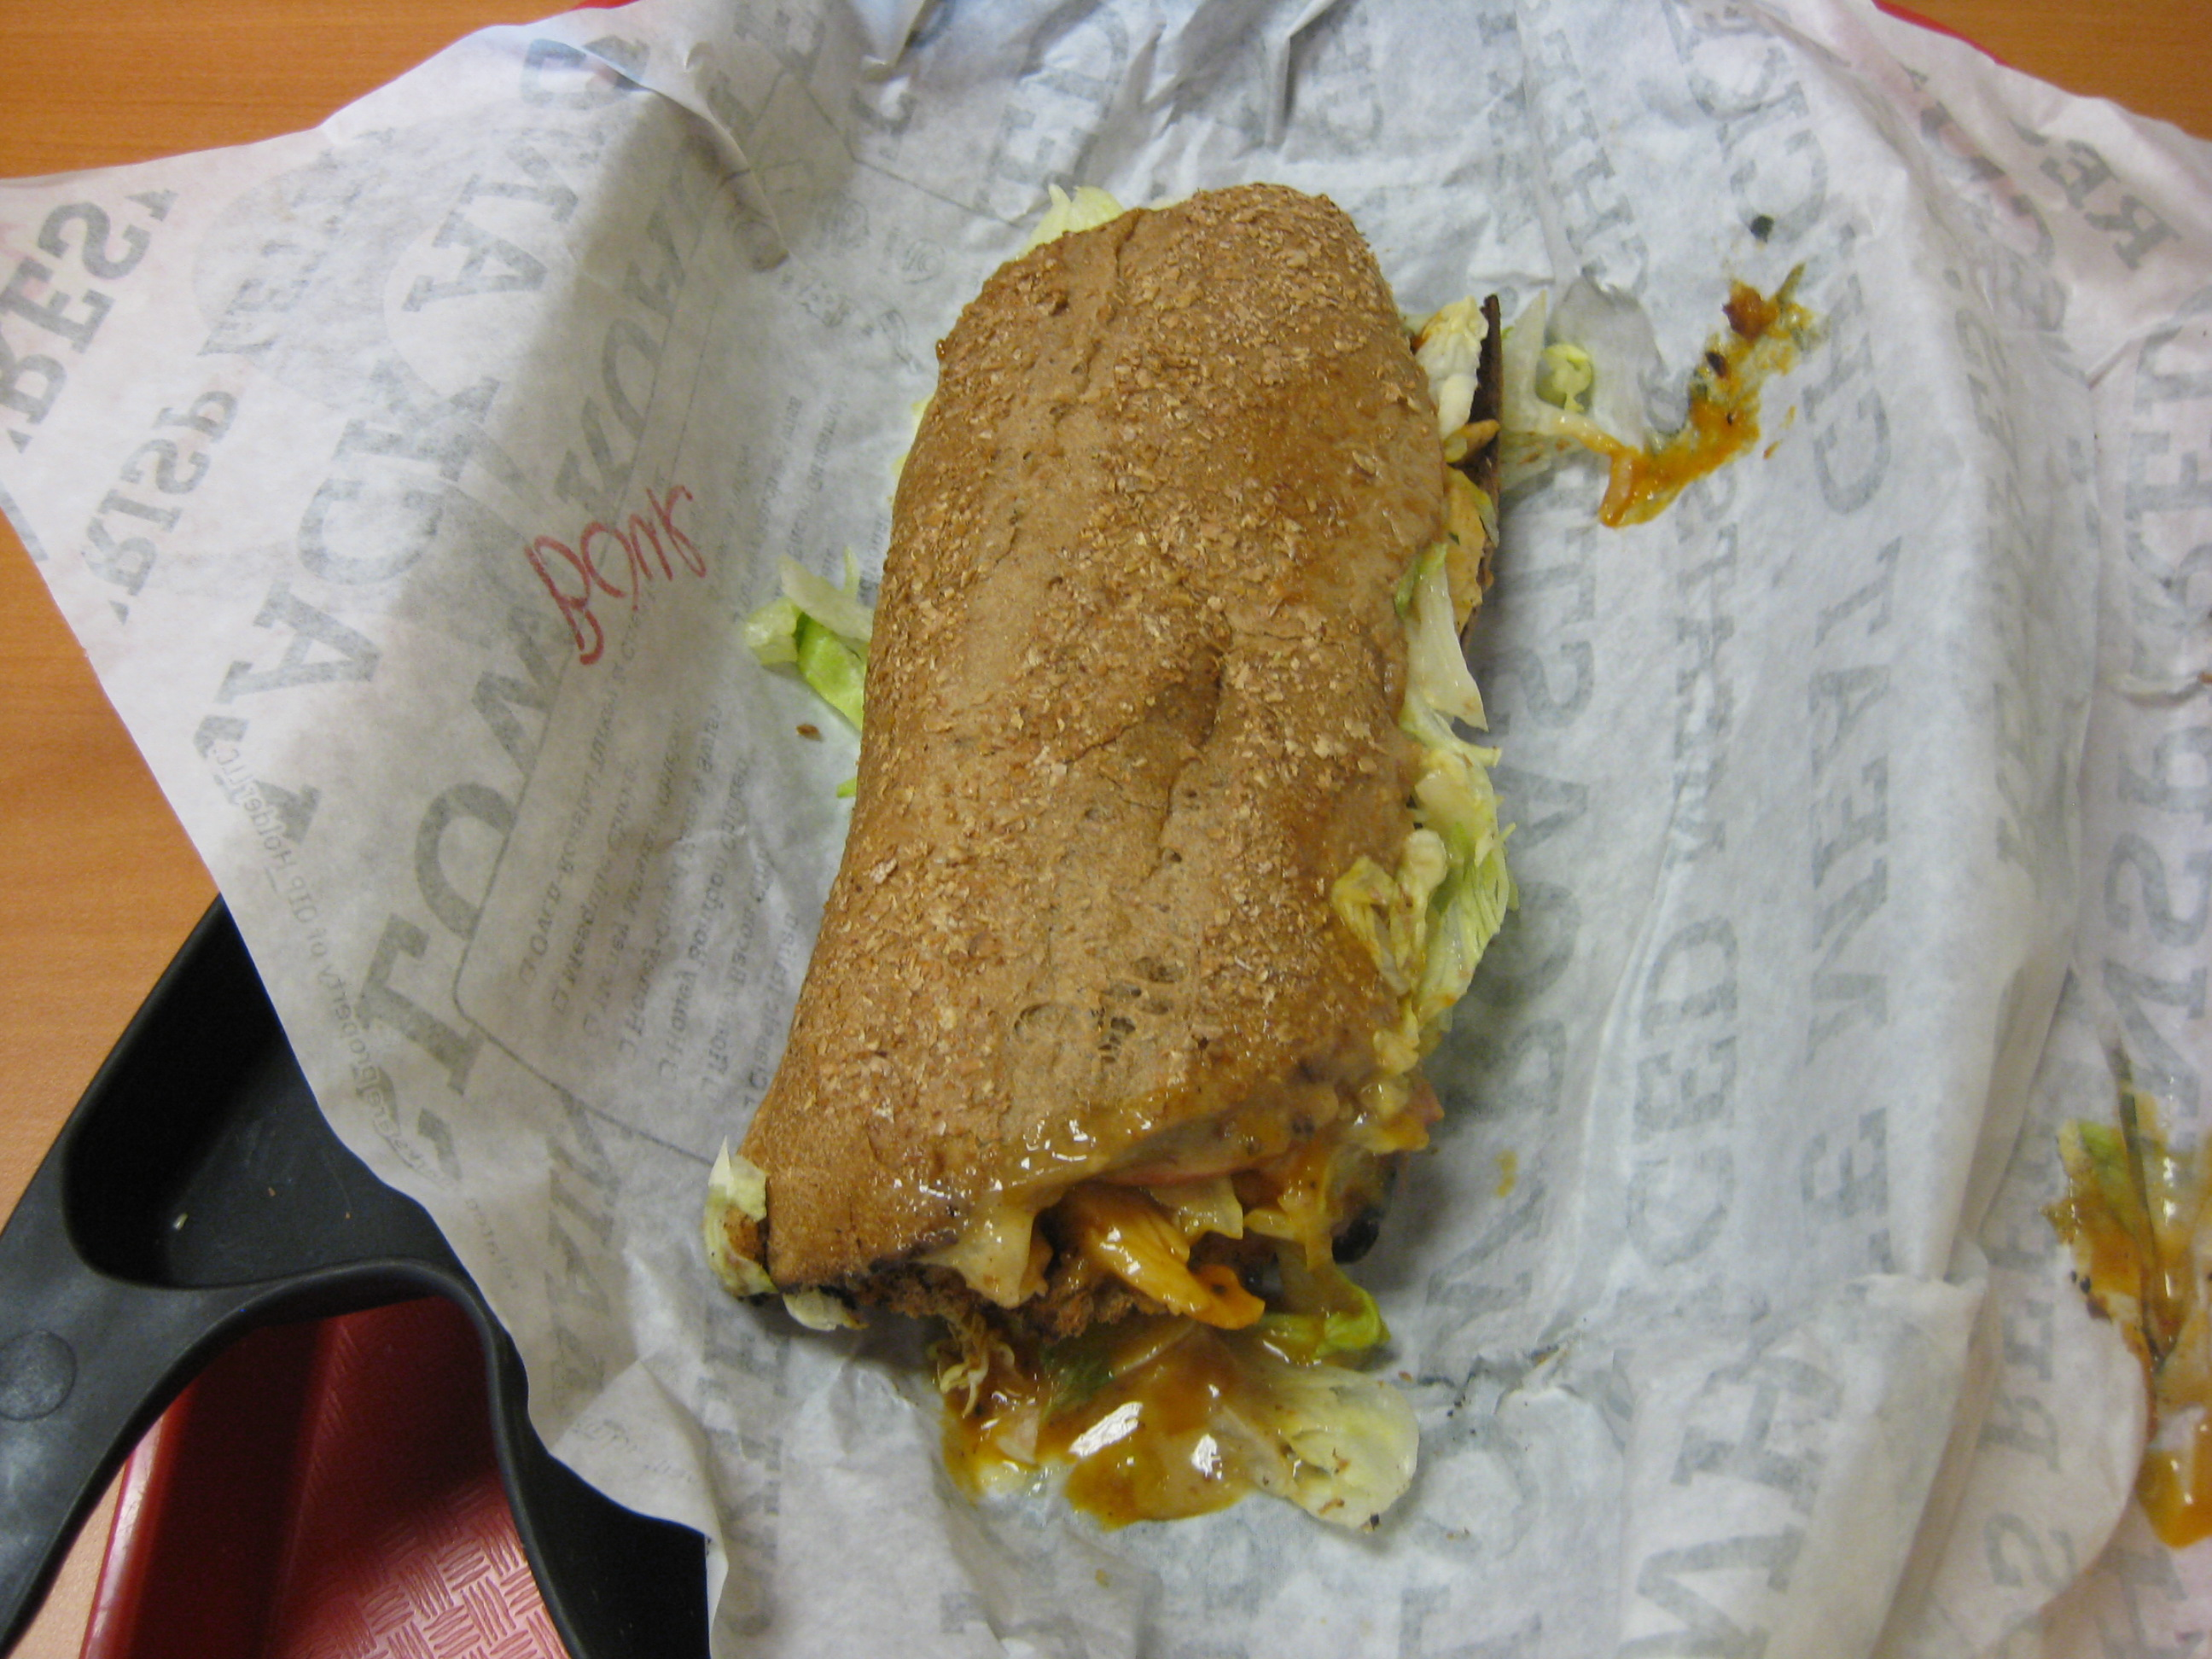sub: (806, 185, 1458, 1499)
